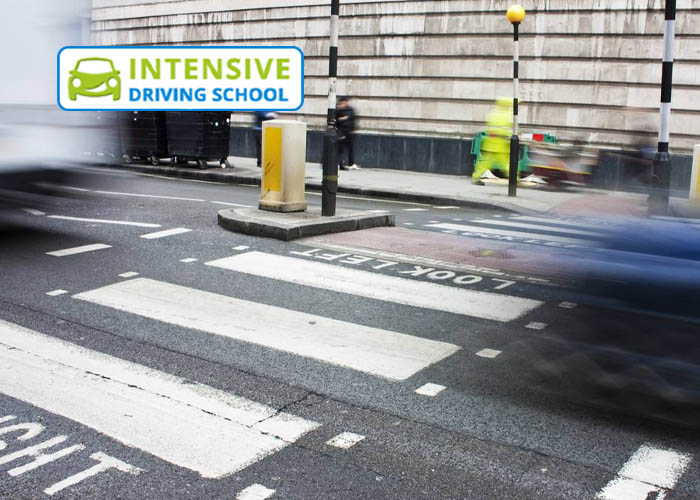Crosswalk: (5, 246, 561, 493)
